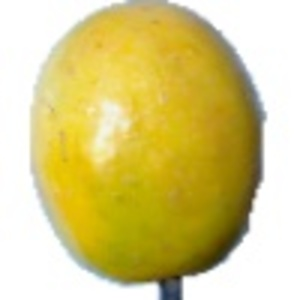maracujá: (28, 1, 268, 300)
